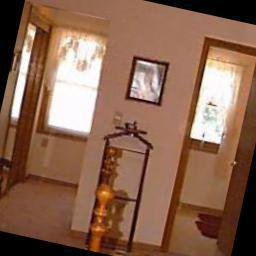Puerta: (212, 57, 256, 254), (245, 60, 256, 256)
